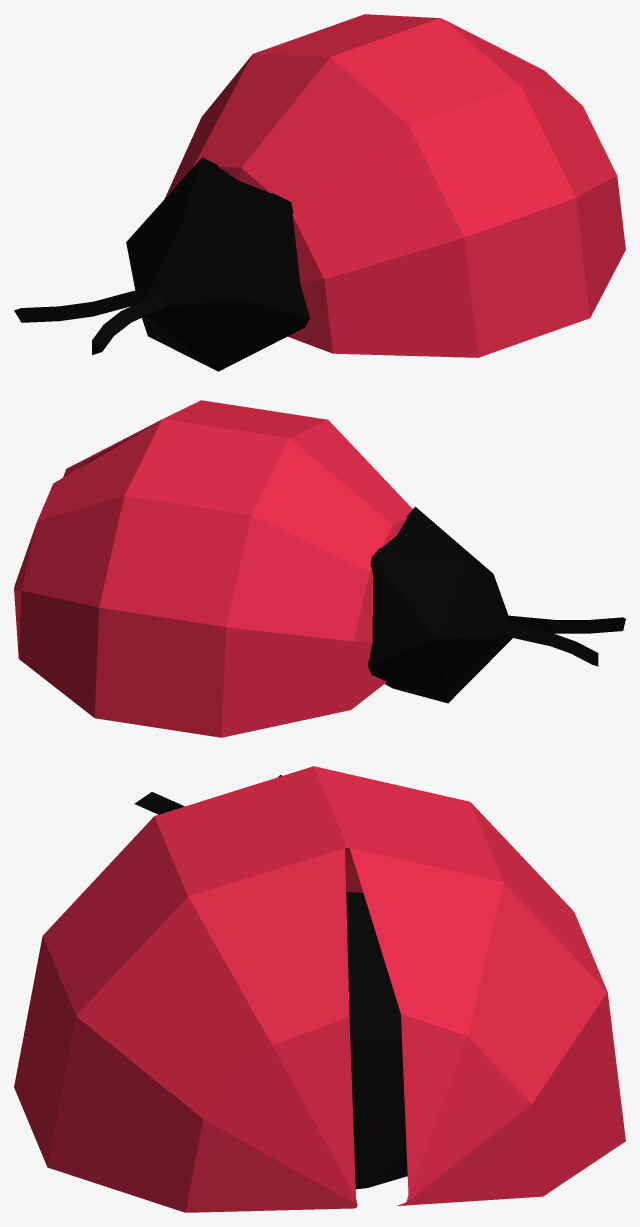
File: Ladybug.fbx
The picture shows the model from 3 angles, top to bottom: view 1: azimuth 30°, elevation 25°; view 2: azimuth 150°, elevation 25°; view 3: azimuth 270°, elevation 25°; orthographic projection. The views are drawn at different scales.
Parts seen in each view (by area): view 1: Sphere, Icosphere, Cylinder, Cylinder.001; view 2: Sphere, Icosphere, Cylinder.001, Cylinder; view 3: Sphere, Sphere.001, Cylinder.001.
Part boxes in pixels (x1,y1,x2,y2): Sphere: [164, 14, 625, 357]; Icosphere: [126, 157, 309, 371]; Cylinder: [14, 287, 145, 322]; Cylinder.001: [92, 293, 168, 354]; Sphere: [14, 400, 412, 737]; Icosphere: [368, 506, 512, 703]; Cylinder.001: [505, 615, 625, 633]; Cylinder: [495, 621, 598, 666]; Sphere: [14, 766, 625, 1212]; Sphere.001: [346, 892, 407, 1189]; Cylinder.001: [134, 792, 184, 814].
Bounding box in the file's own units: 729 × 304 × 496.
